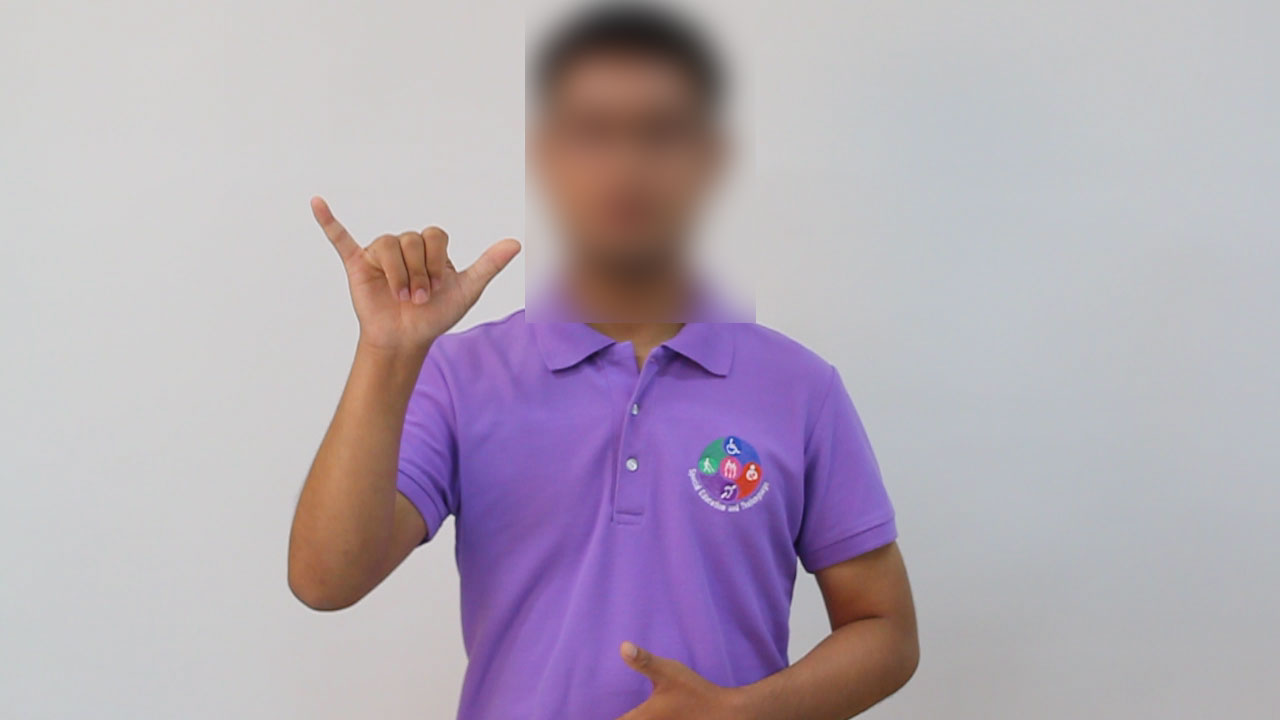yor: (302, 186, 524, 371)
